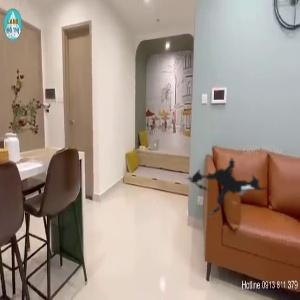drone: (162, 119, 300, 257)
